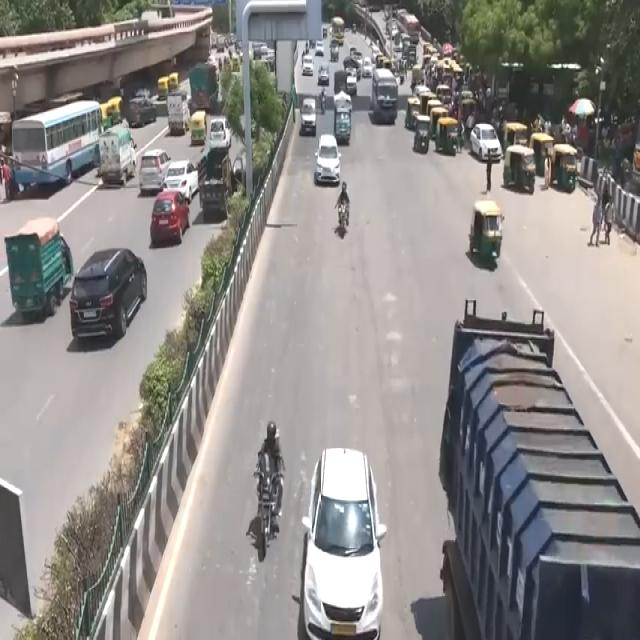BUS: (13, 101, 105, 200), (368, 69, 396, 126)
MOTORCYCLE: (258, 470, 284, 560)
